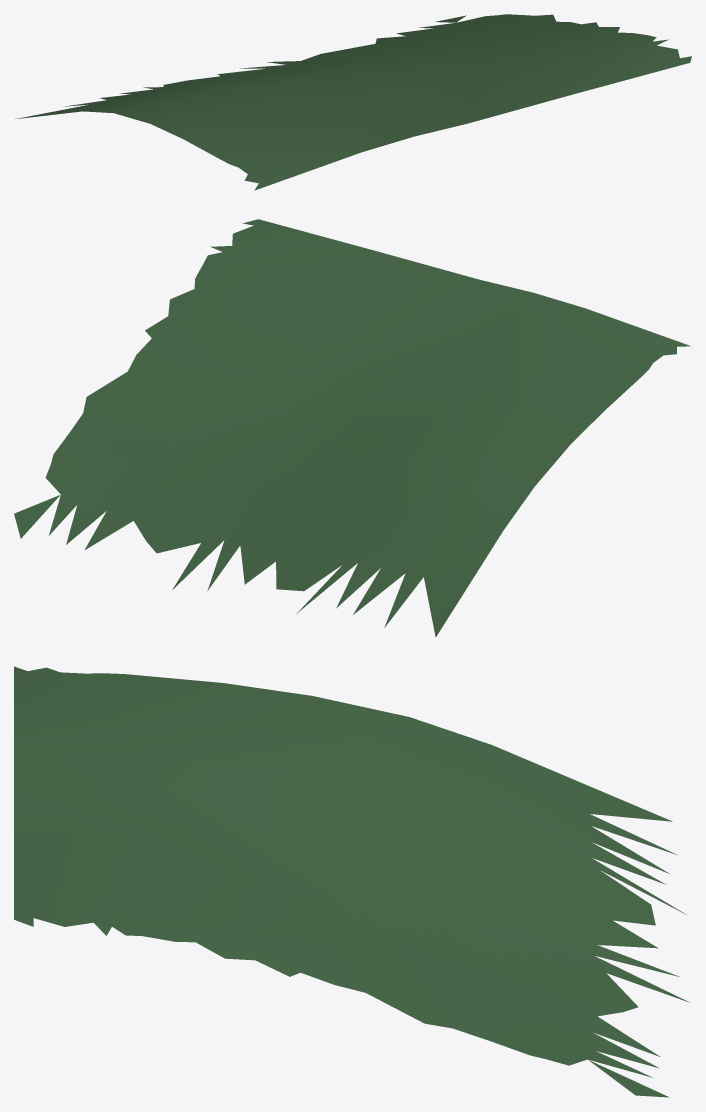
The model's file is payo_land_xm1_y10_lod2.glb.
3 views of the same model, one above another, from view 1: azimuth 30°, elevation 25°; view 2: azimuth 150°, elevation 25°; view 3: azimuth 270°, elevation 25° (orthographic). The views are drawn at different scales.
Parts seen in each view (by area): view 1: payo_land_xm1_y10; view 2: payo_land_xm1_y10; view 3: payo_land_xm1_y10.
Part boxes in pixels (x1,y1,x2,y2): payo_land_xm1_y10: [15, 14, 691, 190]; payo_land_xm1_y10: [14, 219, 690, 637]; payo_land_xm1_y10: [14, 666, 689, 1097].
Bounding box in the file's own units: 270 × 82.65 × 264.
